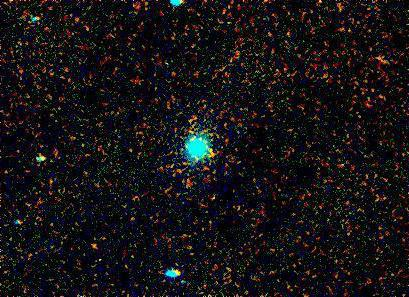star: (198, 139, 228, 169)
